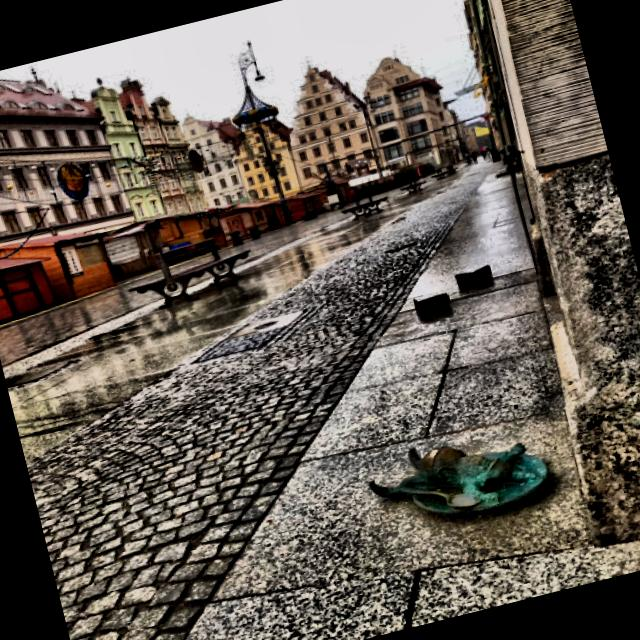Obiezysmak: (369, 442, 548, 515)
